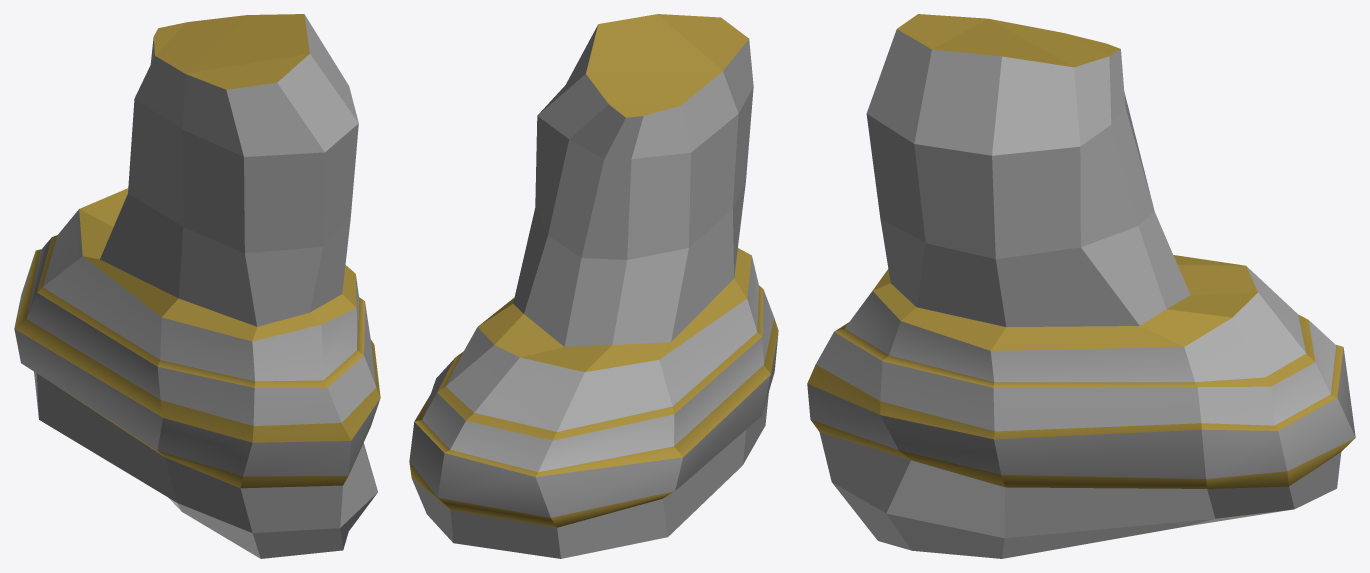
File: 3D_prop_object_HyperBaseRock_001.fbx
3 renders of one model, left to right at view 1: azimuth 30°, elevation 25°; view 2: azimuth 150°, elevation 25°; view 3: azimuth 270°, elevation 25°, orthographic. The views are drawn at different scales.
Parts seen in each view (by area): view 1: polySurface1; view 2: polySurface1; view 3: polySurface1.
Boxes of the visible parts, box(x1,y1,x2,y2) form: polySurface1: box(14, 14, 380, 558); polySurface1: box(409, 14, 778, 558); polySurface1: box(807, 14, 1355, 558).
Bounding box in the file's own units: 5.58 × 9.69 × 9.72.
